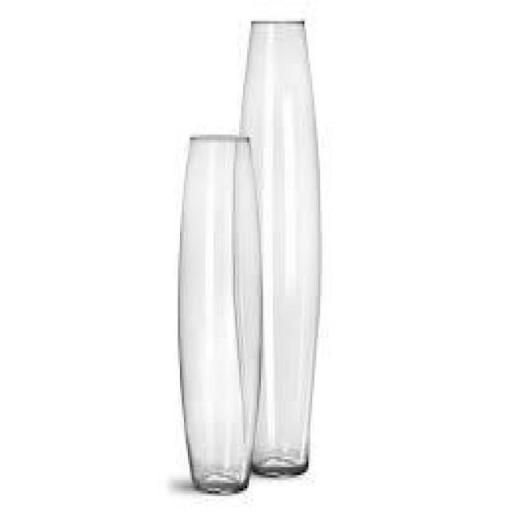glass: (231, 13, 329, 484), (168, 126, 266, 493)
